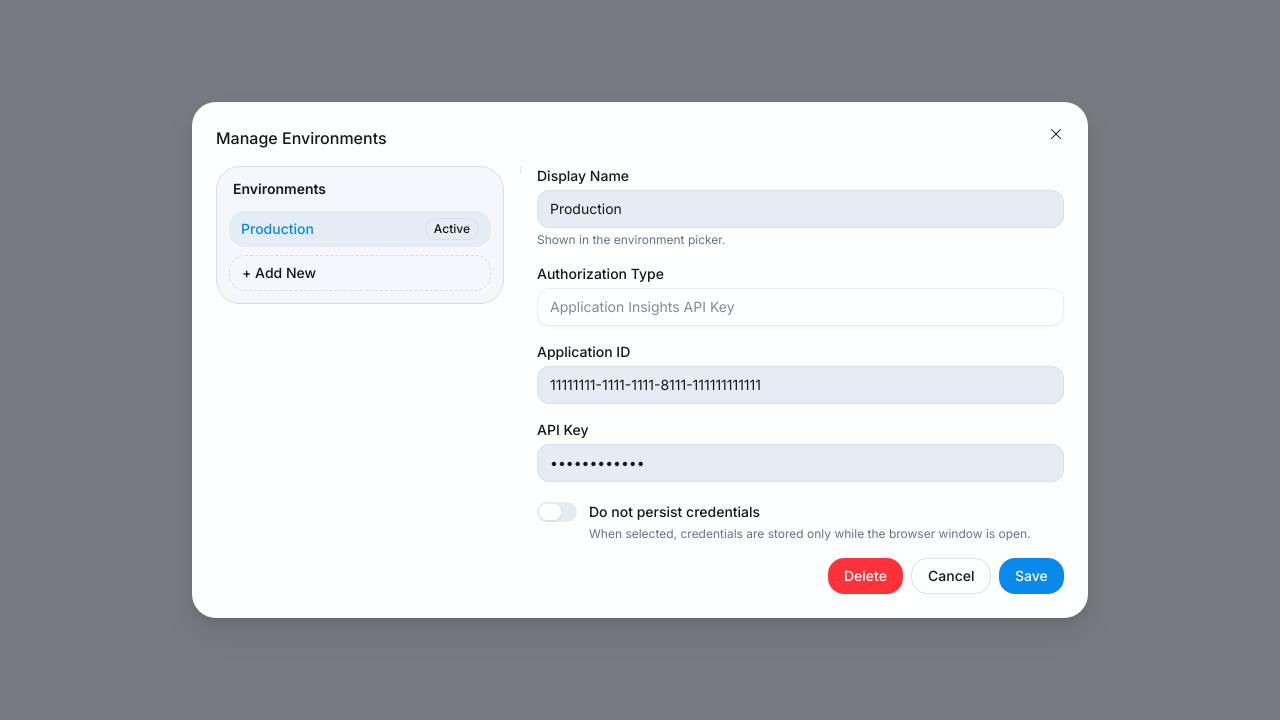
LogAnalyzerDialog › blocks save and shows an inline error when credential verification fails
The width and height of the screenshot is (1280, 720).
Replace the text in the field labelled "Display Name" with "Production EU" at {"x": 800, "y": 209}, box [537,190,1064,228]
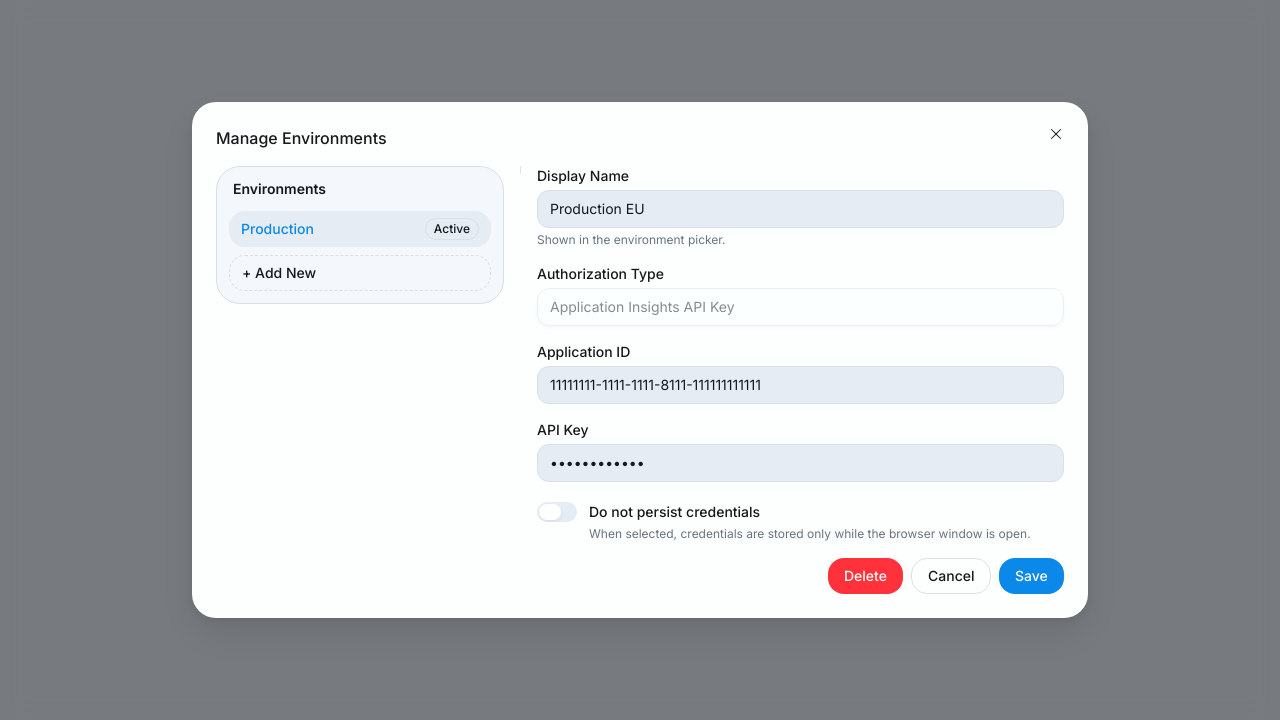
Replace the text in the field labelled "Application ID" with "22222222-2222-4222-8222-222222222222" at {"x": 800, "y": 385}, box [537,366,1064,404]
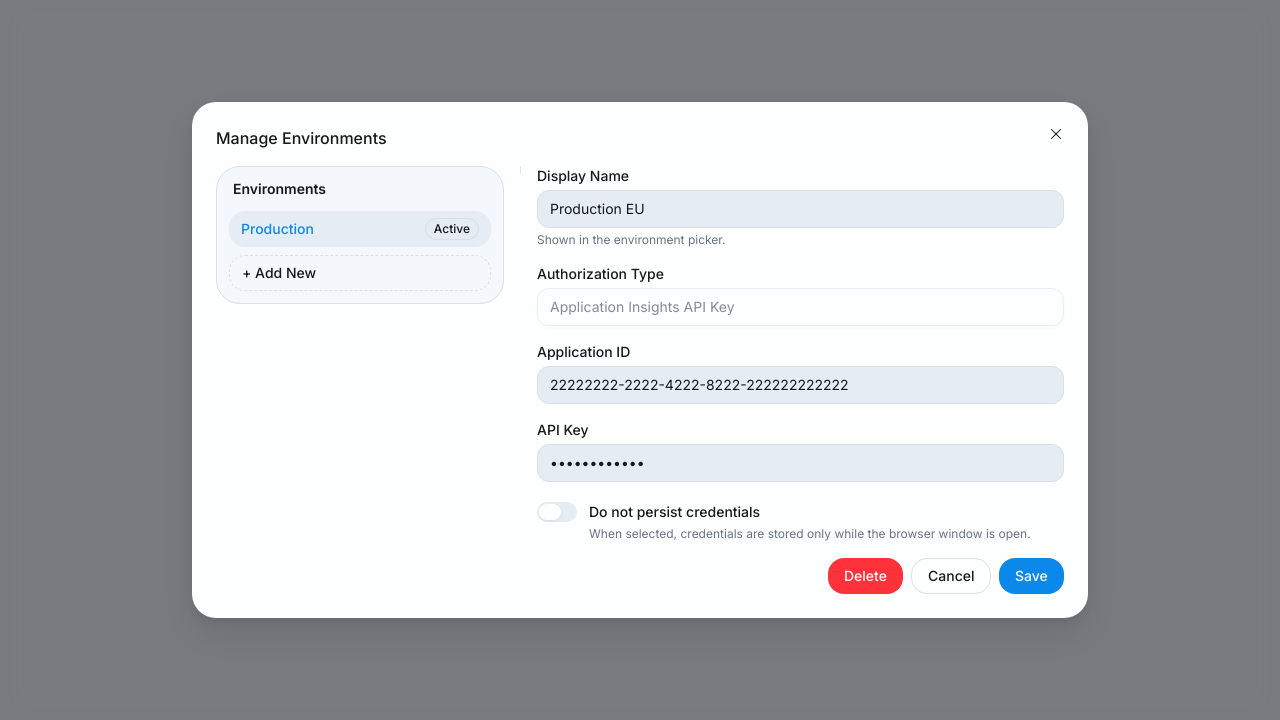
Type "invalid-api-key" into the password field labelled "API Key" at {"x": 800, "y": 463}, box [537,444,1064,482]
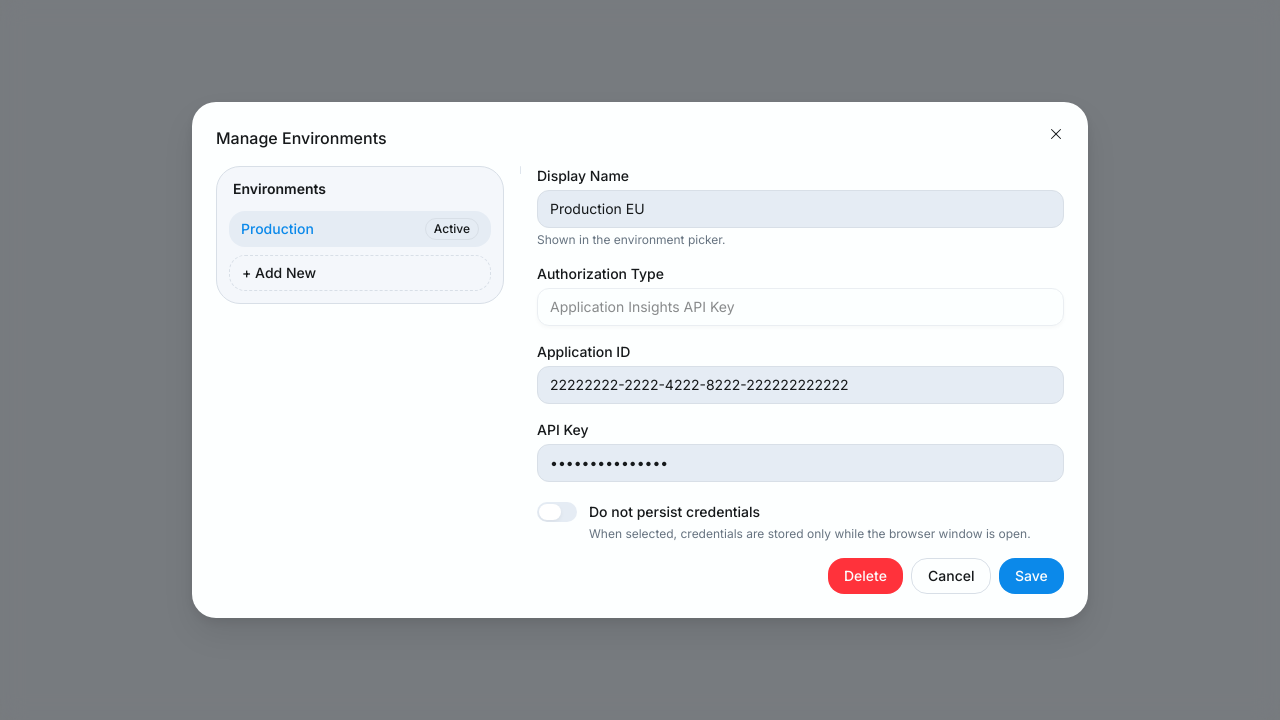
Click the button "Save" at {"x": 1032, "y": 576}, box [999,558,1064,594]
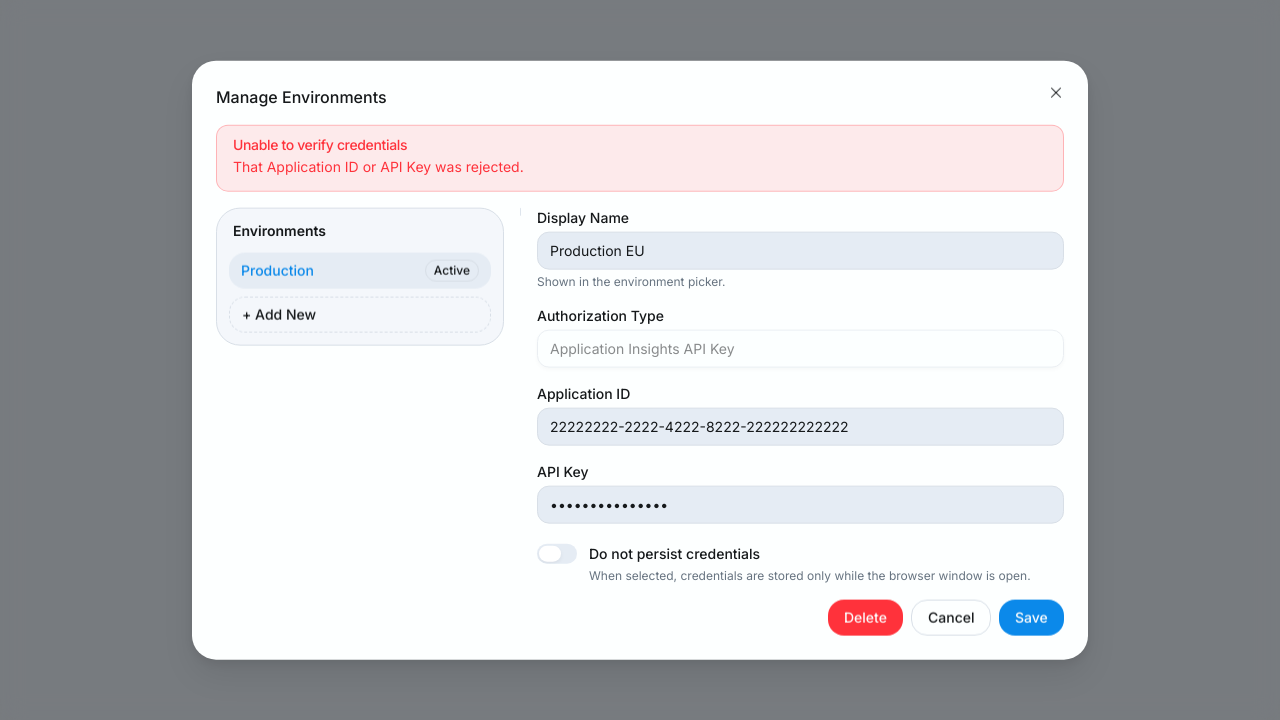
Expected: the heading "Unable to verify credentials" is shown, [233,136,407,153]
Expected: the text "That Application ID or API Key was rejected." is shown, [233,158,524,175]
